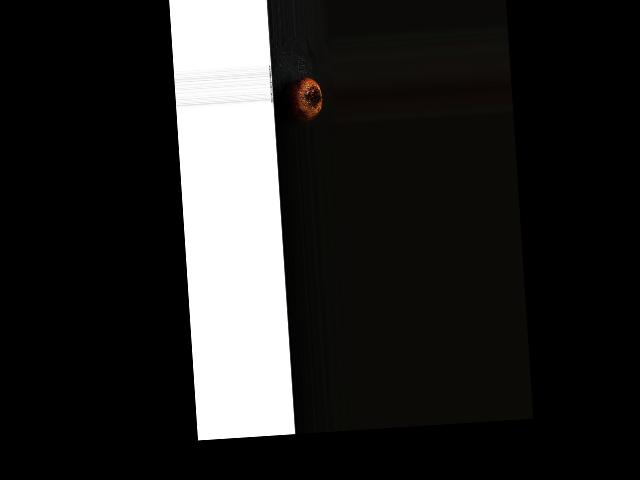beet: (281, 77, 323, 125)
